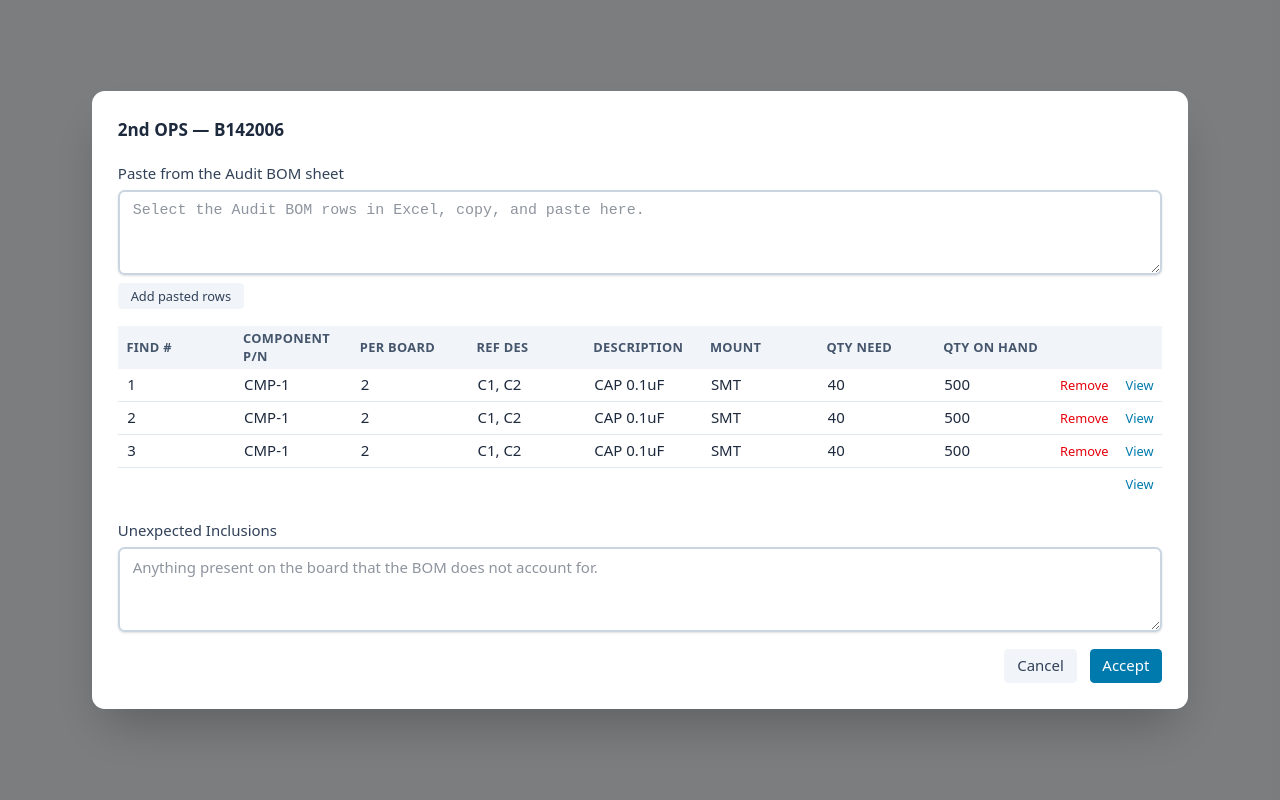
Scenario: SecondOpsEntryModal › Row removal › removes a middle row and keeps other values in order
Check: the number of rows with test id "second-ops-grid-row" is 4, box [118,369,1162,401]; [118,401,1162,434]; [118,434,1162,467]; [118,467,1162,500]
Click the 2nd button with test id "second-ops-grid-remove-btn" at (1084, 419), box [1056,410,1113,427]
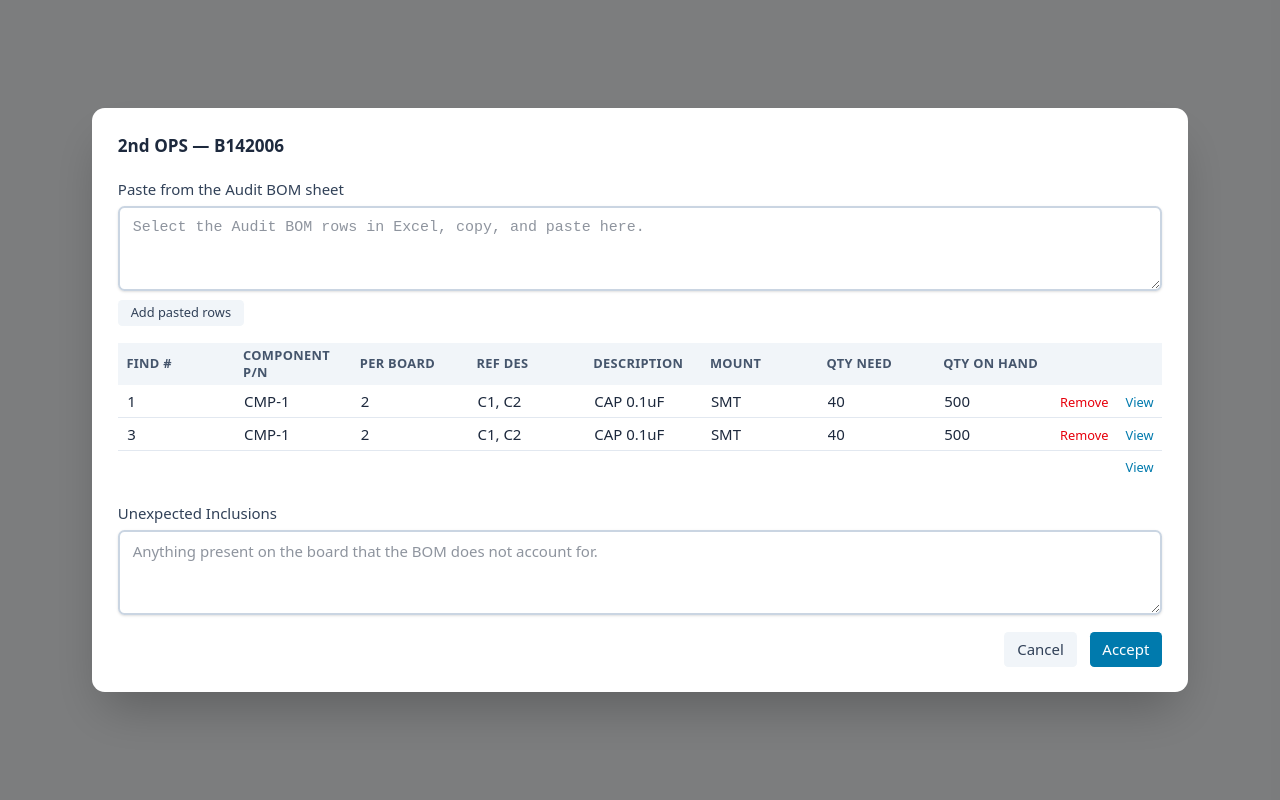
Check: the number of rows with test id "second-ops-grid-row" is 3, box [118,385,1162,418]; [118,418,1162,451]; [118,451,1162,483]
